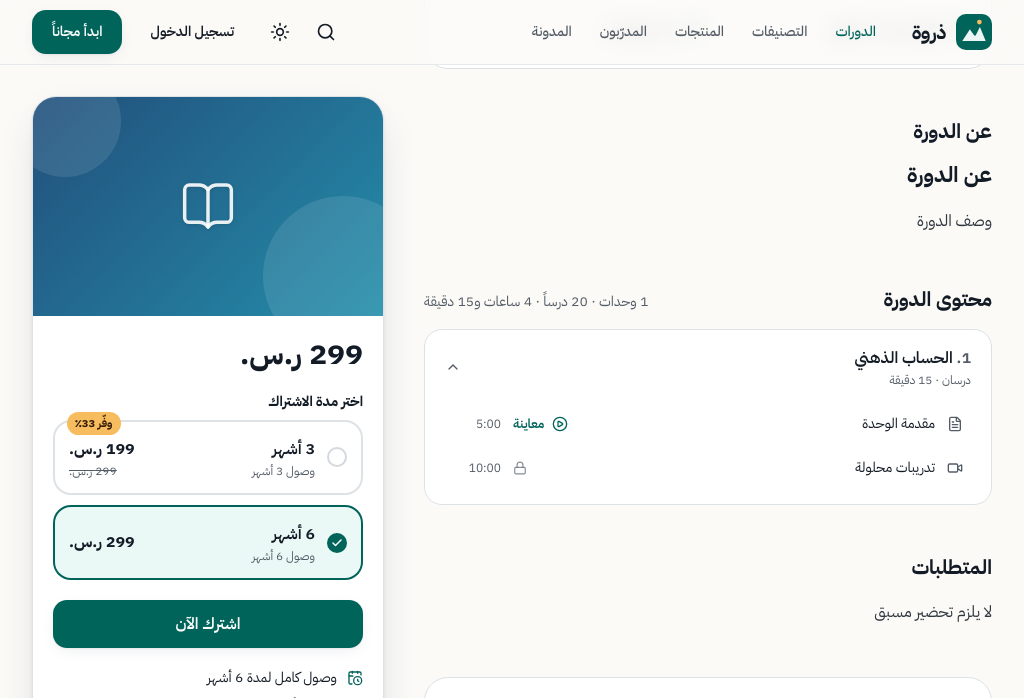
course page › opens a free preview lesson
(page scrolled)
Click the button "معاينة".
click(541, 424)  # box [513,415,568,434]
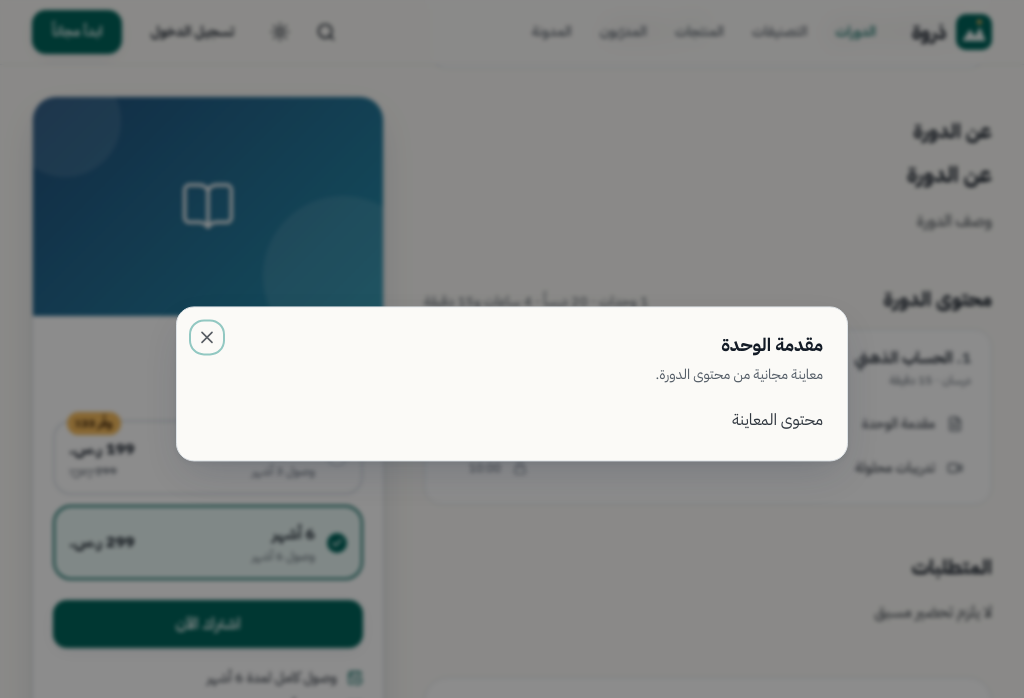
Now the text "محتوى المعاينة" is shown, box [732,408,823,432]
